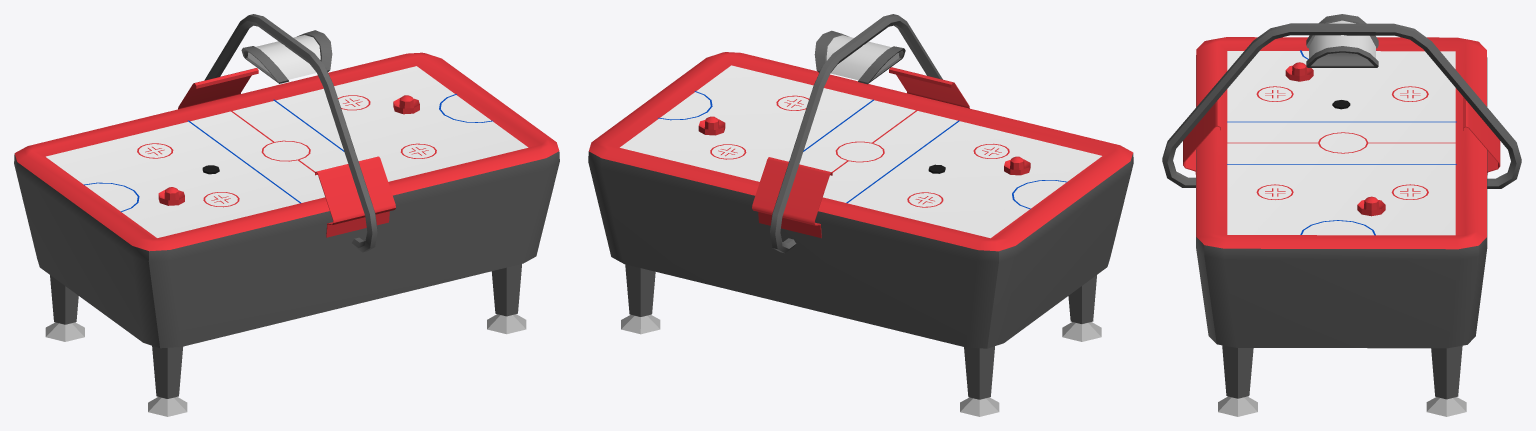
File: MesaHockey.fbx
3 renders of one model, left to right at view 1: azimuth 30°, elevation 25°; view 2: azimuth 150°, elevation 25°; view 3: azimuth 270°, elevation 25°, orthographic.
Visible parts, largest first — view 1: MesaHockey; view 2: MesaHockey; view 3: MesaHockey.
Part boxes in pixels (x1,y1,x2,y2): MesaHockey: (14,14,559,416); MesaHockey: (588,14,1133,416); MesaHockey: (1162,14,1521,416).
Size of the model in its own units: 1.44 by 0.9469 by 1.03.
